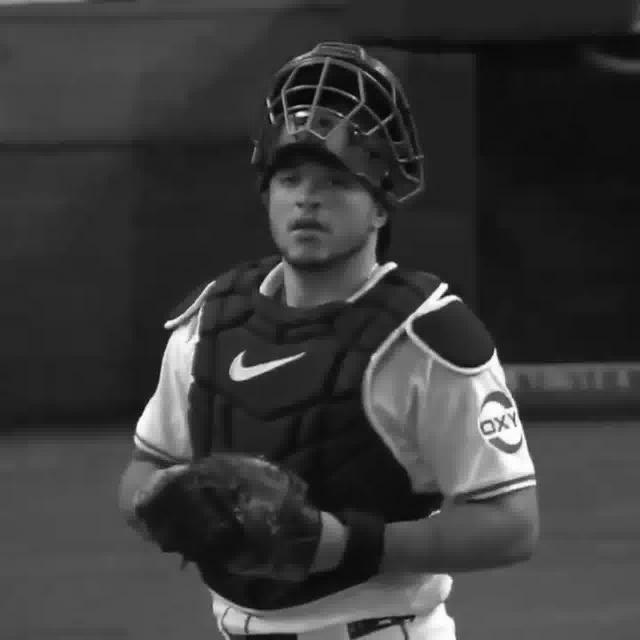baseball_glove: (142, 458, 310, 592)
